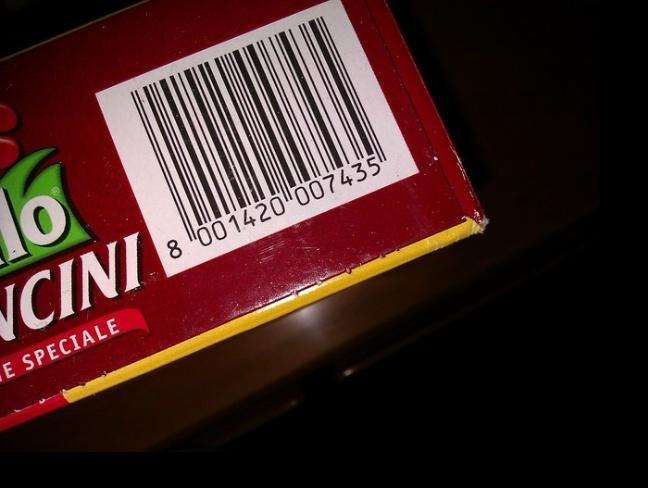Barcode: (93, 10, 416, 280)
